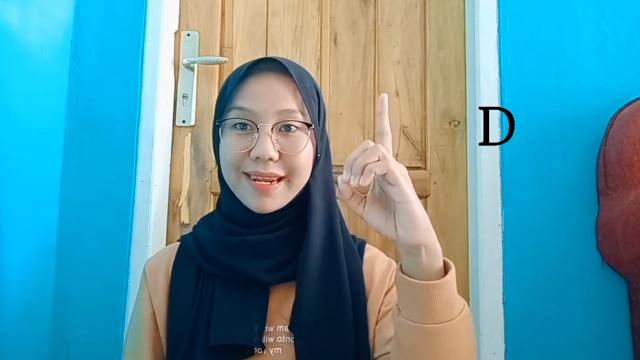D: (332, 90, 442, 256)
